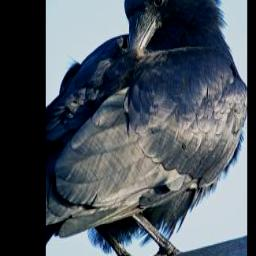Crow: (46, 0, 246, 256)
